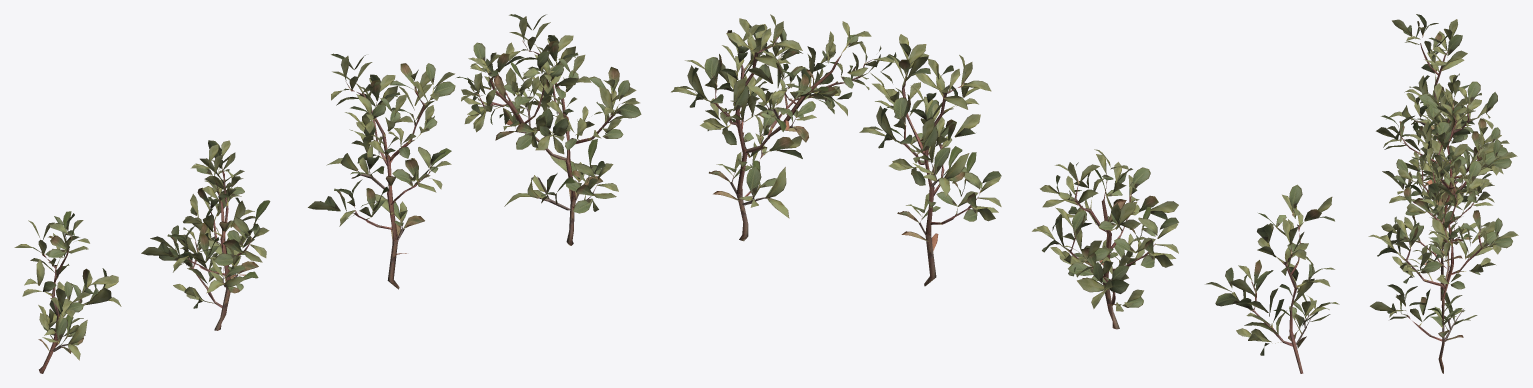
File: shrub_d.glb
3 views of the same model, side by side, from view 1: azimuth 30°, elevation 25°; view 2: azimuth 150°, elevation 25°; view 3: azimuth 270°, elevation 25° (orthographic). The views are drawn at different scales.
Visible parts, largest first — view 1: shrub_04; view 2: shrub_04; view 3: shrub_04.
Boxes of the visible parts, left/top/right/bottom form: shrub_04: left=14, top=14, right=641, bottom=373; shrub_04: left=671, top=14, right=1339, bottom=373; shrub_04: left=1368, top=14, right=1518, bottom=373.
Bounding box in the file's own units: 0.5837 × 0.2185 × 0.1461.
Materials: 1 (1 with a texture image).
